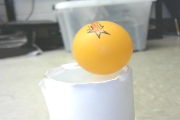PingPongBall: (73, 20, 132, 76)
